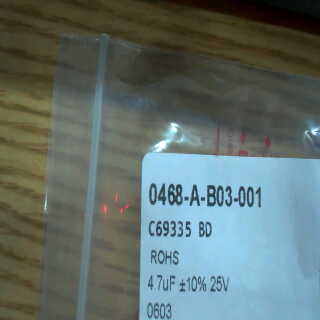4.7uF: (145, 271, 179, 293)
